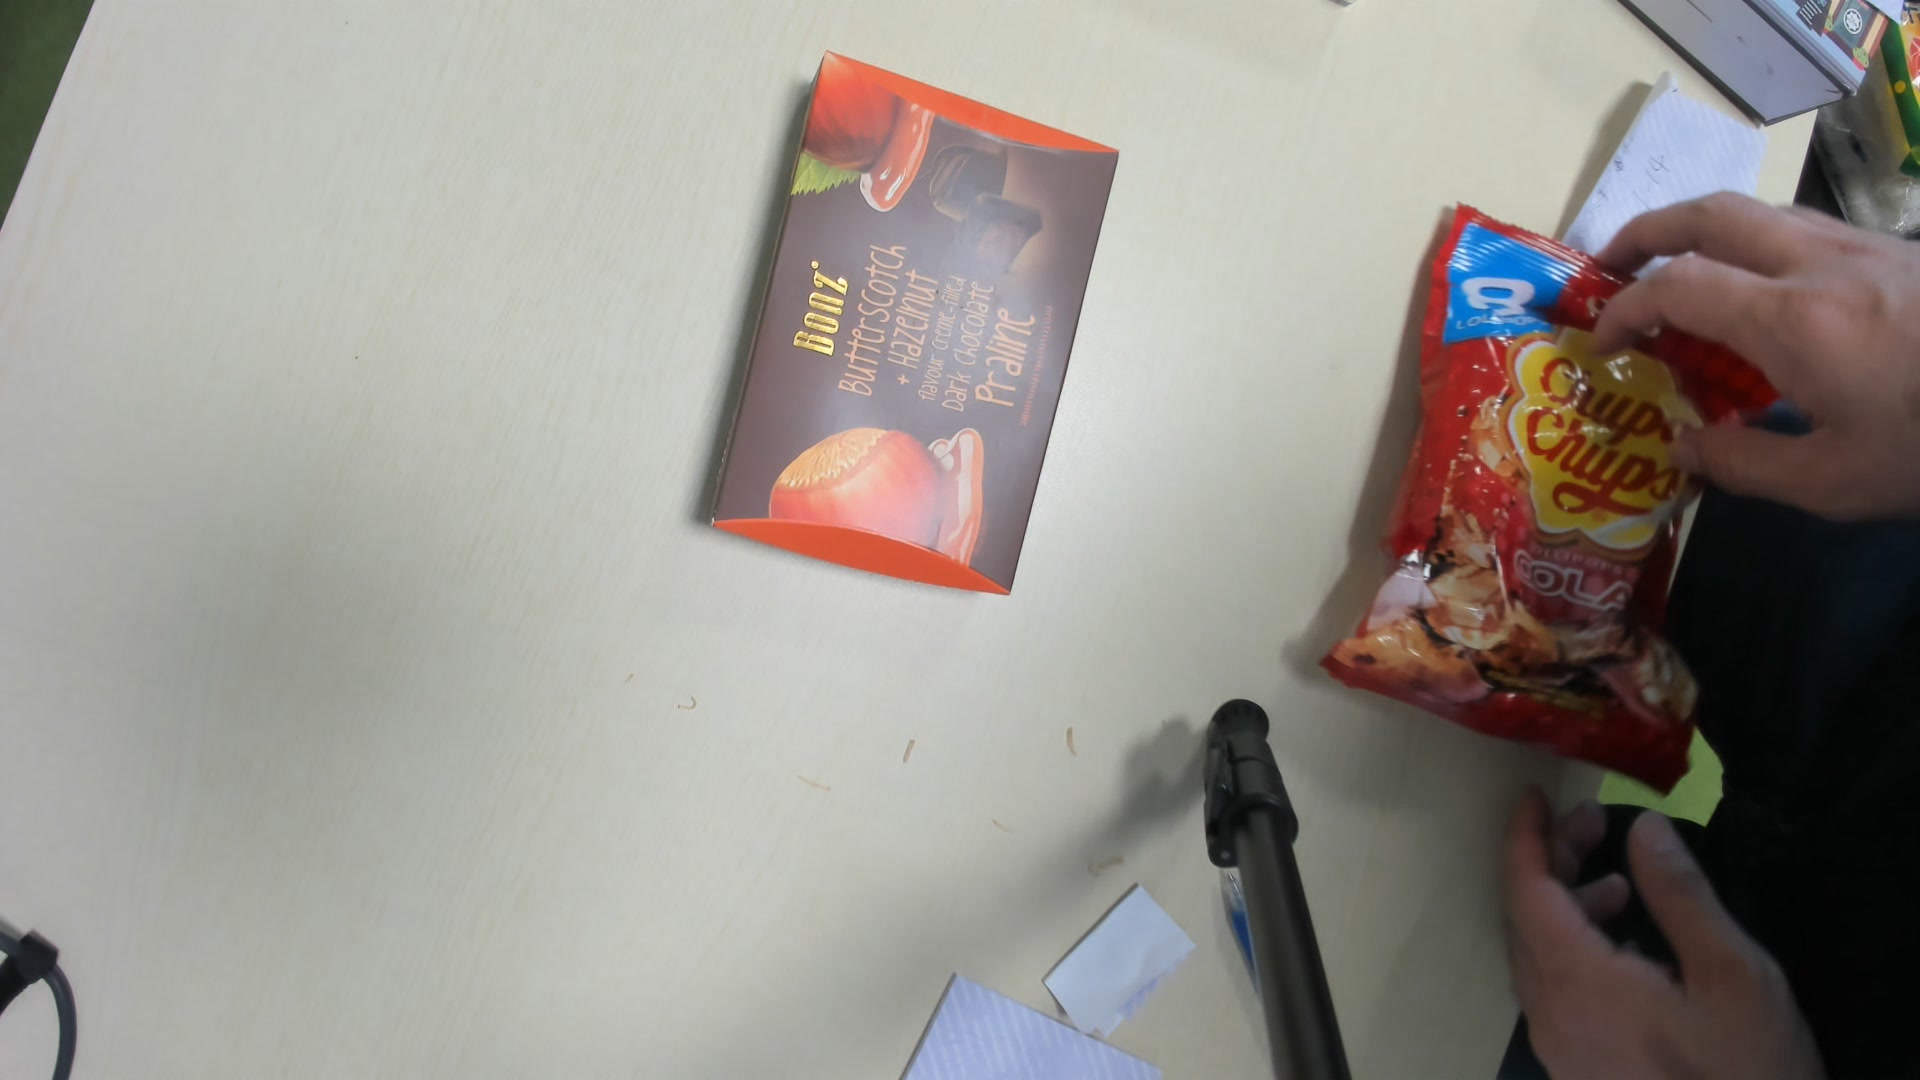SweetsChocolatesOthers_0-99g_NonHalal_Nonhealthy: (699, 55, 1106, 607)
